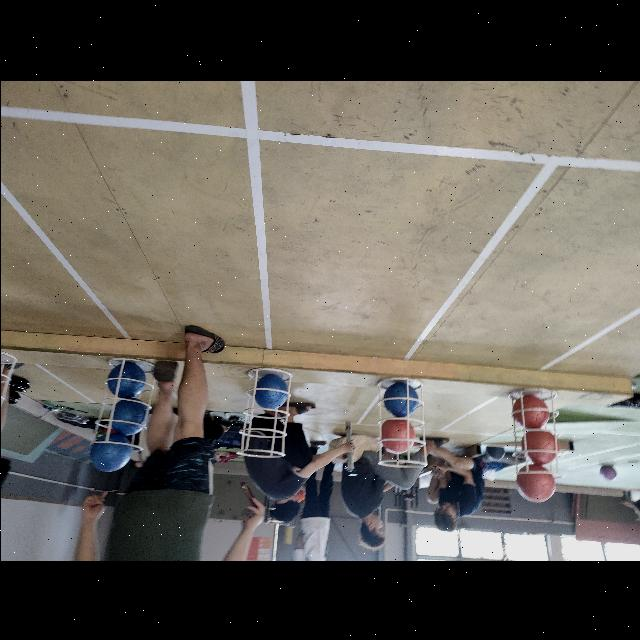B: (90, 430, 132, 470), (106, 360, 148, 396), (110, 398, 150, 434), (252, 372, 290, 408), (383, 379, 419, 416)
R: (514, 465, 556, 503), (376, 417, 416, 453), (520, 428, 558, 464), (510, 394, 550, 428)
